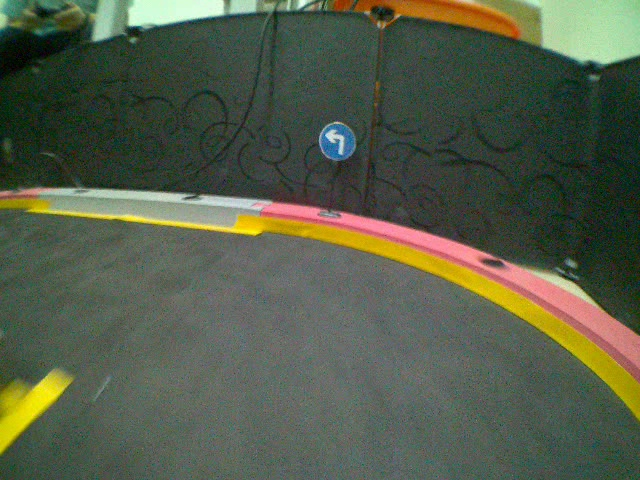turn: (317, 121, 356, 161)
